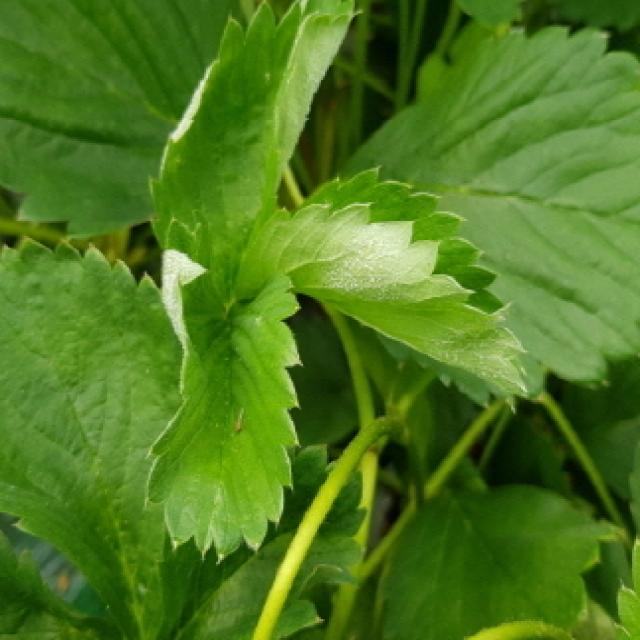Powdery Mildew Leaf: (274, 167, 535, 415), (140, 208, 305, 560), (147, 0, 362, 254)
